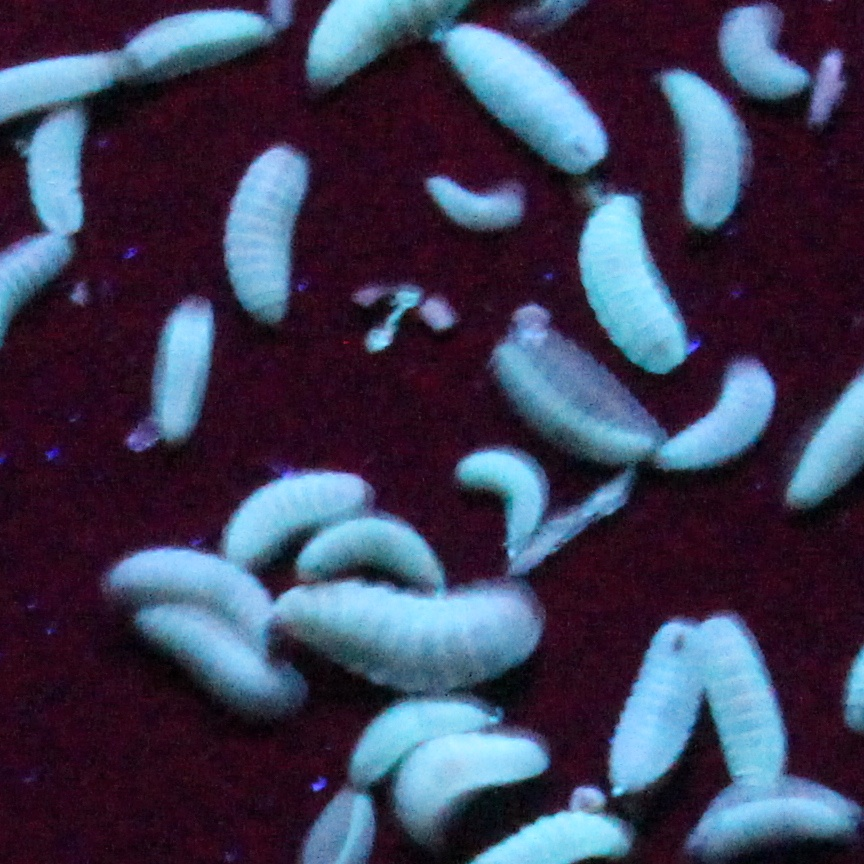larve: (279, 594, 540, 689), (447, 27, 605, 172), (578, 199, 681, 379), (603, 621, 704, 793), (504, 341, 644, 463), (136, 612, 289, 714), (228, 144, 305, 328), (410, 741, 541, 844), (708, 614, 782, 781), (659, 72, 739, 225), (694, 787, 855, 863), (664, 366, 775, 471), (351, 698, 485, 778), (218, 470, 365, 529), (153, 304, 214, 437), (122, 20, 271, 73), (112, 553, 267, 603), (463, 450, 544, 545), (723, 11, 804, 95), (312, 526, 431, 579), (35, 116, 86, 229), (424, 175, 523, 229)
